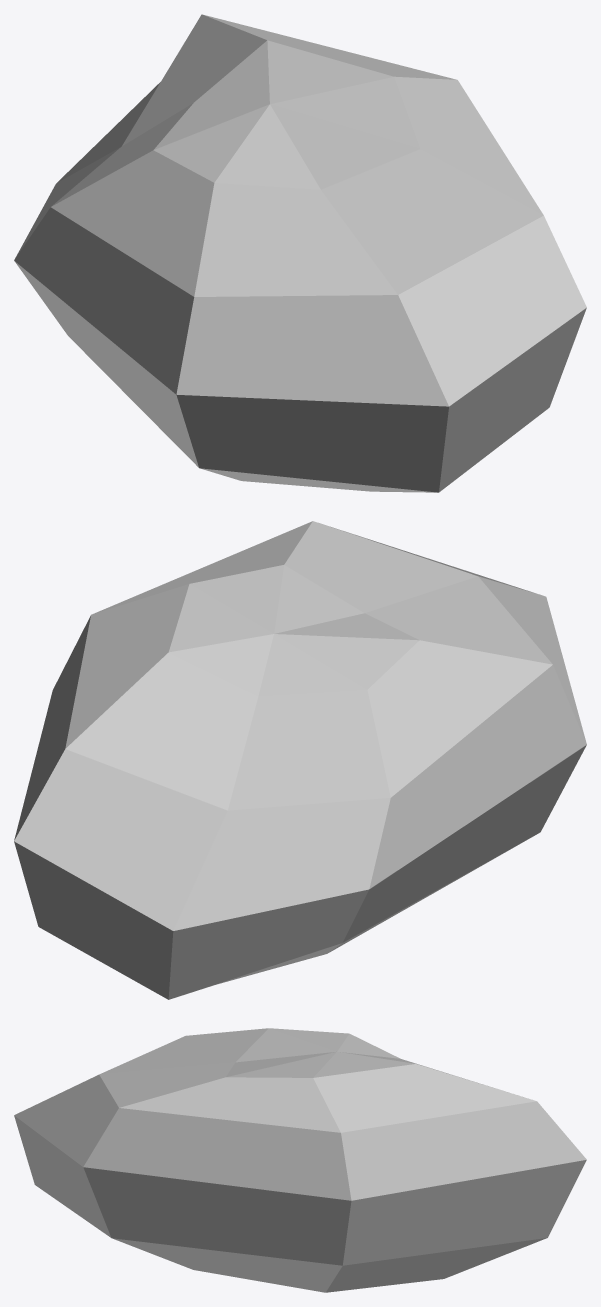
The model's file is stone.fbx.
3 renders of one model, top to bottom at view 1: azimuth 30°, elevation 25°; view 2: azimuth 150°, elevation 25°; view 3: azimuth 270°, elevation 25°, orthographic. The views are drawn at different scales.
Parts seen in each view (by area): view 1: stone; view 2: stone; view 3: stone.
Part boxes in pixels (x1,y1,x2,y2): stone: [14, 14, 586, 492]; stone: [14, 521, 586, 999]; stone: [14, 1028, 586, 1292].
Size of the model in its own units: 43.55 by 30.05 by 71.67.
Materials: 1 (1 with a texture image).
